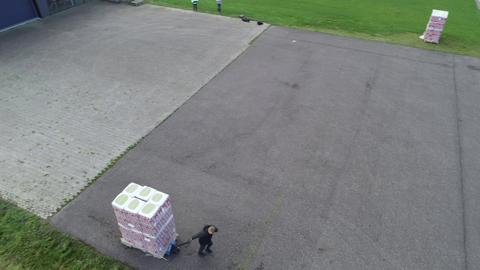RockwoolPallet: (112, 183, 181, 258)
